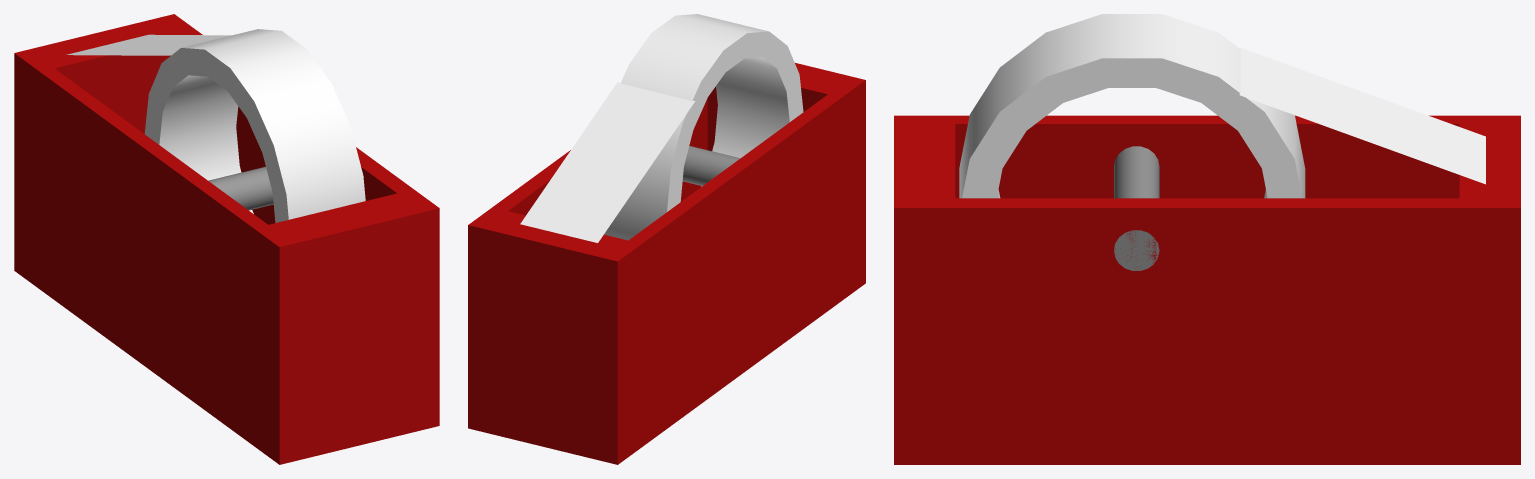
The model's file is tape dispenser textured.FBX.
3 renders of one model, left to right at view 1: azimuth 30°, elevation 25°; view 2: azimuth 150°, elevation 25°; view 3: azimuth 270°, elevation 25°, orthographic. The views are drawn at different scales.
Parts seen in each view (by area): view 1: Box001, Cylinder001, Plane001, Cylinder002; view 2: Box001, Cylinder001, Plane001, Cylinder002; view 3: Box001, Cylinder001, Plane001, Cylinder002.
Part boxes in pixels (x1=…): Box001: x1=14, y1=14, x2=439, y2=464; Cylinder001: x1=144, y1=29, x2=365, y2=222; Plane001: x1=66, y1=34, x2=231, y2=55; Cylinder002: x1=208, y1=166, x2=273, y2=210; Box001: x1=468, y1=63, x2=865, y2=464; Cylinder001: x1=604, y1=14, x2=803, y2=240; Plane001: x1=520, y1=82, x2=695, y2=242; Cylinder002: x1=682, y1=146, x2=739, y2=185; Box001: x1=894, y1=115, x2=1520, y2=464; Cylinder001: x1=959, y1=14, x2=1305, y2=198; Plane001: x1=1239, y1=47, x2=1485, y2=184; Cylinder002: x1=1114, y1=146, x2=1159, y2=270.
Bounding box in the file's own units: 61.72 × 119 × 177.
